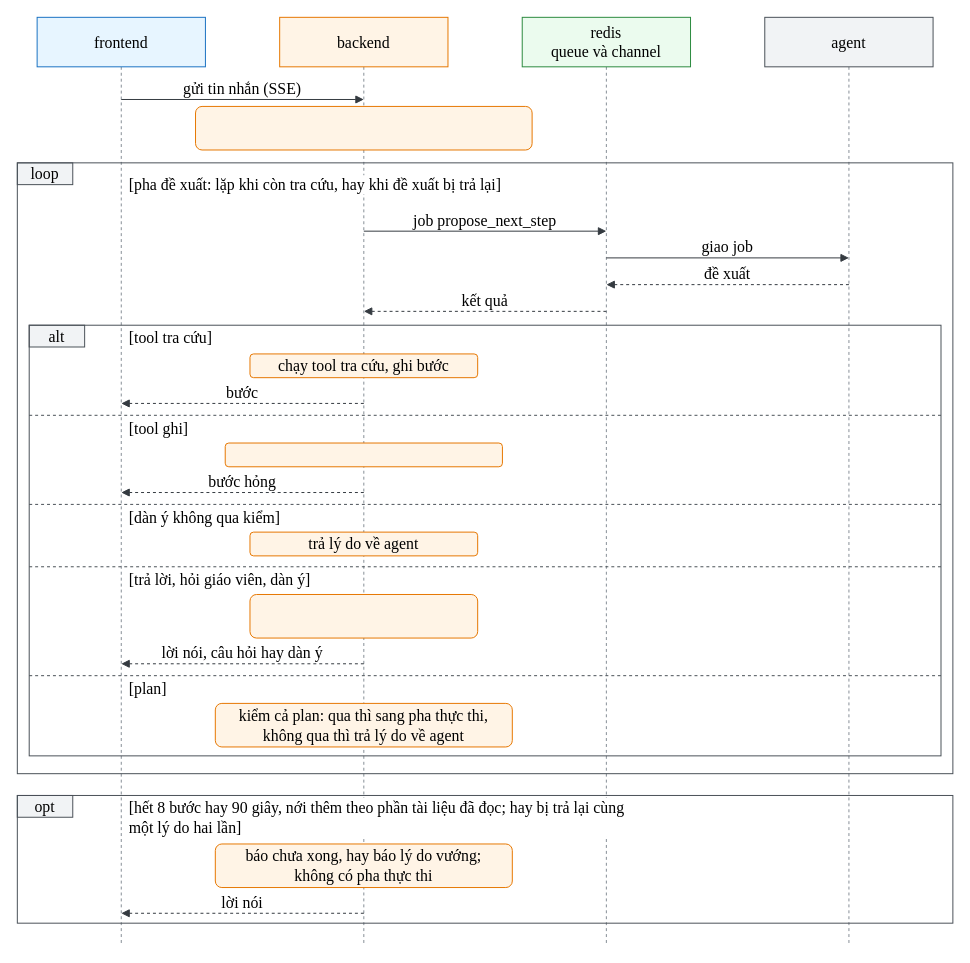
Image size: 970x963. Some labels were removed from this diagram. Here are the shapes that lost their labels. From the top down, the box of each, then its label:
(195, 105, 532, 150): khoá đoạn hội thoại (bận thì báo lỗi, dừng), ghi tin nhắn của giáo viên
(224, 442, 502, 467): ghi bước hỏng, trả lý do về agent
(249, 594, 478, 638): ghi bước; không có pha thực thi
